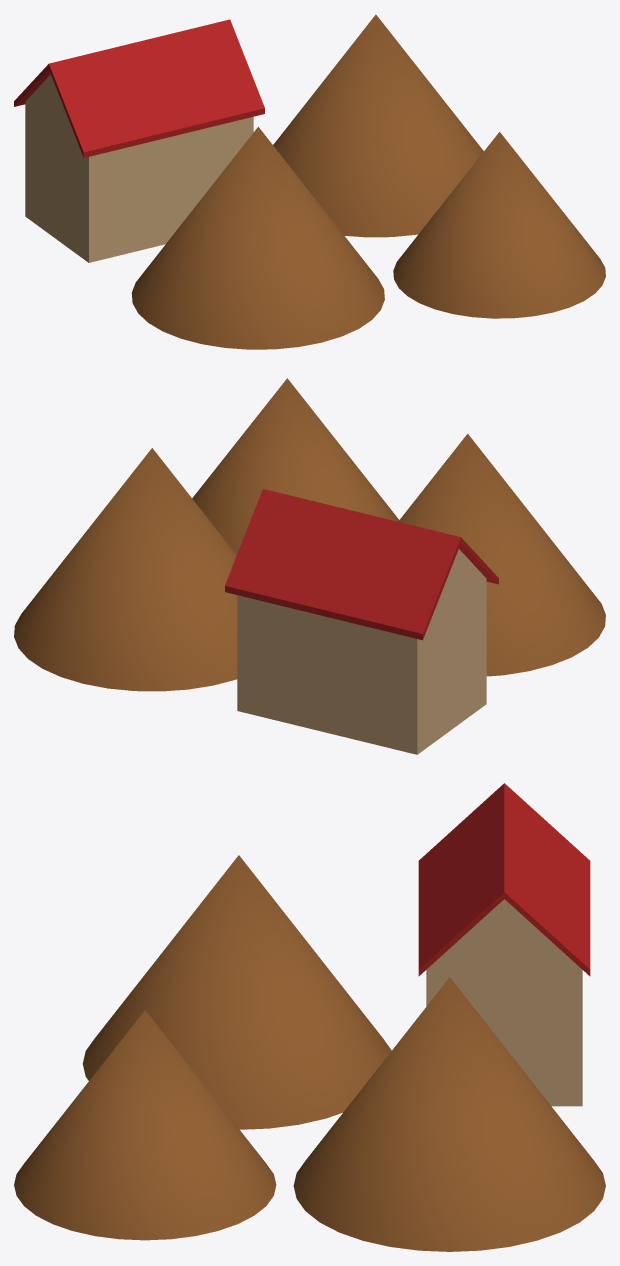
Rendered from BCoalFactory.obj.
The picture shows the model from 3 angles, top to bottom: view 1: azimuth 30°, elevation 25°; view 2: azimuth 150°, elevation 25°; view 3: azimuth 270°, elevation 25°; orthographic projection. The views are drawn at different scales.
Visible parts, largest first — view 1: BCoalFactory; view 2: BCoalFactory; view 3: BCoalFactory.
Part boxes in pixels (x1,y1,x2,y2): BCoalFactory: [14, 14, 605, 349]; BCoalFactory: [14, 378, 605, 754]; BCoalFactory: [14, 783, 605, 1251].
Bounding box in the file's own units: 7.7 × 3.1 × 7.58.
